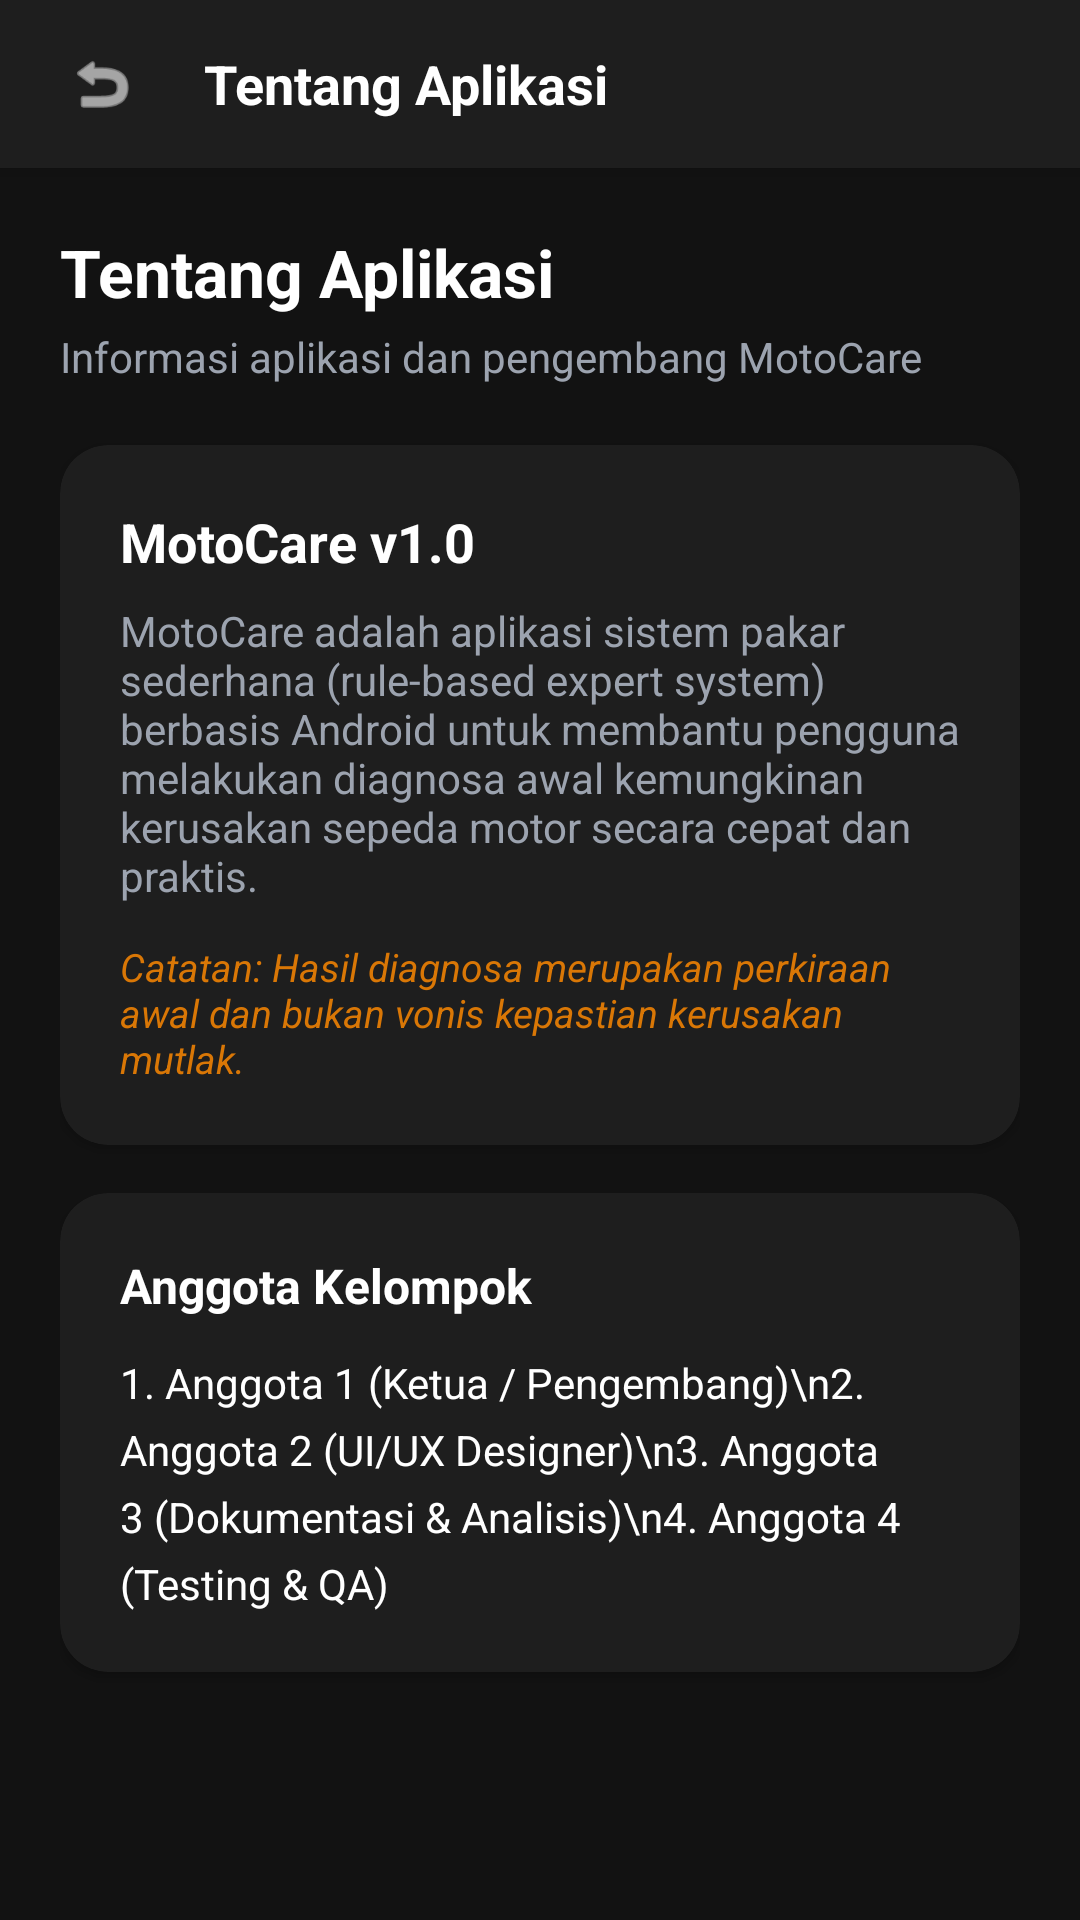

Icons on this 1080*1920 Android screen, each with its box as (x1, y1, x2, y2):
Kembali: (77, 61, 129, 108)
